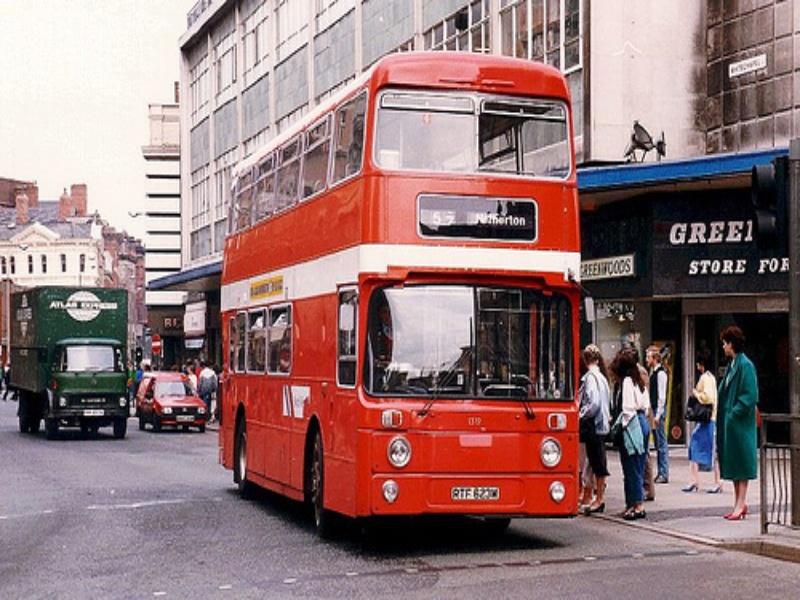car: (216, 53, 581, 550), (10, 287, 129, 437), (134, 372, 209, 434)
person: (716, 325, 759, 521), (610, 350, 652, 521), (581, 344, 612, 516), (682, 356, 720, 494), (644, 347, 672, 482), (197, 361, 217, 404)
